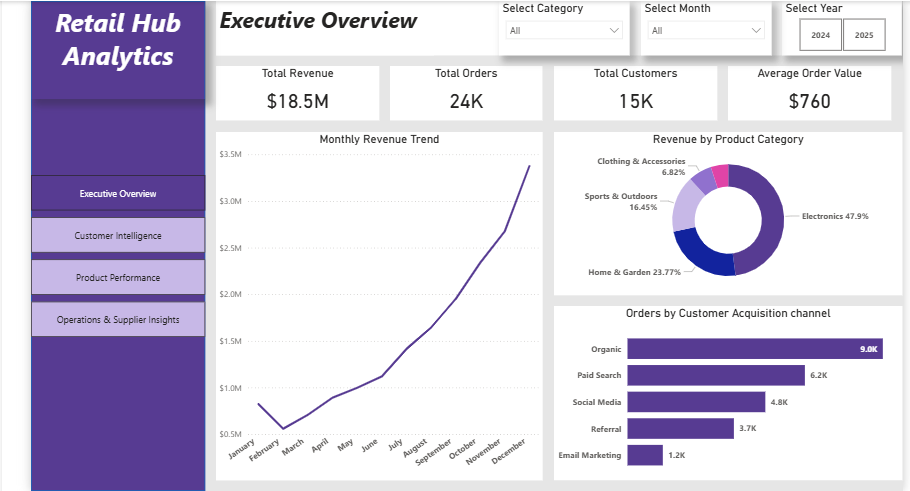

The page's visual inventory and layout, read from the dashboard file:
{"tool":"powerbi","page":{"name":"Executive Overview","canvas":[1280,720],"ordinal":0},"visuals":[{"type":"shape","box":[272,0,1008,80],"z":0},{"type":"card","title":"Total Revenue","fields":{"Values":["_Measures.Total Revenue (Non-Cancelled)"]},"box":[272,96,240,80],"z":1000},{"type":"card","title":"Total Customers","fields":{"Values":["_Measures.Total Customers"]},"box":[768,96,240,80],"z":2000},{"type":"card","title":"Total Orders","fields":{"Values":["_Measures.Total Orders (Non-Cancelled)"]},"box":[528,96,224,80],"z":3000},{"type":"card","title":"Average Order Value","fields":{"Values":["_Measures.Avg Order Value"]},"box":[1024,96,240,80],"z":4000},{"type":"lineChart","title":"Monthly Revenue Trend","fields":{"Y":["_Measures.Total Revenue (Non-Cancelled)"],"Category":["orders.order_date.Variation.Date Hierarchy.Month"]},"box":[272,192,480,512],"z":5000},{"type":"donutChart","title":"Revenue by Product Category","fields":{"Category":["categories.category_name"],"Y":["_Measures.Total Revenue (Non-Cancelled)"]},"box":[768,192,512,240],"z":6000},{"type":"clusteredBarChart","title":"Orders by Customer Acquisition channel","fields":{"Category":["customers.acquisition_channel"],"Y":["_Measures.Total Orders"]},"box":[768,448,512,256],"z":7000},{"type":"slicer","title":"Select Category","fields":{"Values":["categories.category_name"]},"box":[688,0,192,80],"z":9000},{"type":"slicer","title":"Select Year","fields":{"Values":["orders.order_date.Variation.Date Hierarchy.Year"]},"box":[1104,0,176,80],"z":10000},{"type":"slicer","title":"Select Month","fields":{"Values":["customers.registration_date.Variation.Date Hierarchy.Month"]},"box":[896,0,192,80],"z":11000},{"type":"textbox","box":[272,0,320,80],"z":12000},{"type":"shape","box":[0,0,256,720],"z":13000},{"type":"textbox","box":[0,0,256,144],"z":14000},{"type":"pageNavigator","box":[0,256,256,240],"z":15000}]}

Visuals, with their boxes on the page's 1280x720 design canvas (x1, y1, x2, y2). These are canvas units, not pixel positions in the 910x491 screenshot, which may show the page scaled, cropped or inside an application window:
shape: rect(272, 0, 1280, 80)
"Total Revenue" card: rect(272, 96, 512, 176)
"Total Customers" card: rect(768, 96, 1008, 176)
"Total Orders" card: rect(528, 96, 752, 176)
"Average Order Value" card: rect(1024, 96, 1264, 176)
"Monthly Revenue Trend" lineChart: rect(272, 192, 752, 704)
"Revenue by Product Category" donutChart: rect(768, 192, 1280, 432)
"Orders by Customer Acquisition channel" clusteredBarChart: rect(768, 448, 1280, 704)
"Select Category" slicer: rect(688, 0, 880, 80)
"Select Year" slicer: rect(1104, 0, 1280, 80)
"Select Month" slicer: rect(896, 0, 1088, 80)
textbox: rect(272, 0, 592, 80)
shape: rect(0, 0, 256, 720)
textbox: rect(0, 0, 256, 144)
pageNavigator: rect(0, 256, 256, 496)
